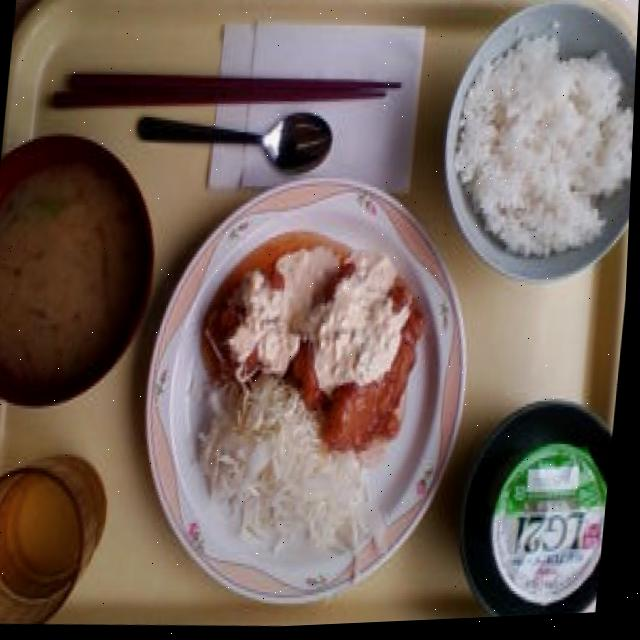米饭主食: (434, 0, 639, 306)
